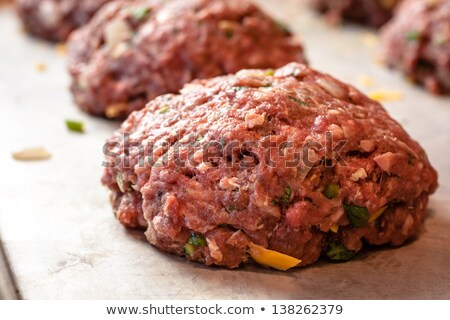ground_beef: (88, 69, 437, 266), (75, 1, 296, 121)
